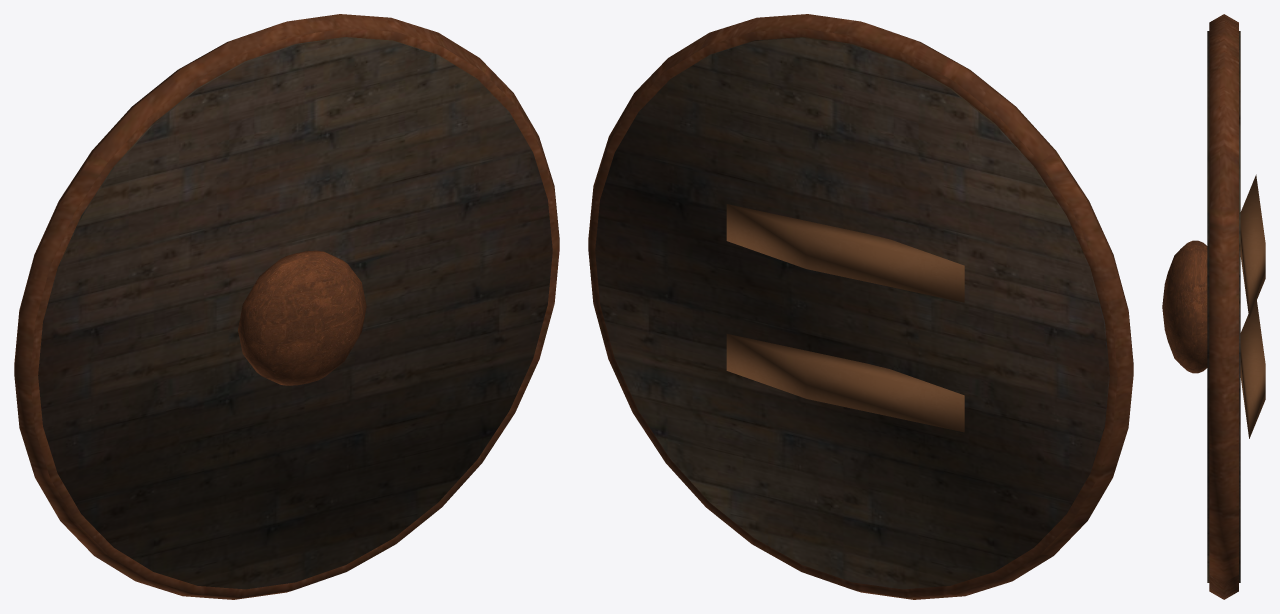
File: hm_rusty_shield.glb
The picture shows the model from 3 angles, left to right: view 1: azimuth 30°, elevation 25°; view 2: azimuth 150°, elevation 25°; view 3: azimuth 270°, elevation 25°; orthographic projection. The views are drawn at different scales.
Visible parts, largest first — view 1: rusty_shield; view 2: rusty_shield; view 3: rusty_shield.
Part boxes in pixels (bbox=[...]): rusty_shield: bbox=[14, 14, 559, 599]; rusty_shield: bbox=[588, 14, 1133, 599]; rusty_shield: bbox=[1162, 14, 1265, 599].
Bounding box in the file's own units: 0.616 × 0.616 × 0.1087.
1 material, 1 textured.
